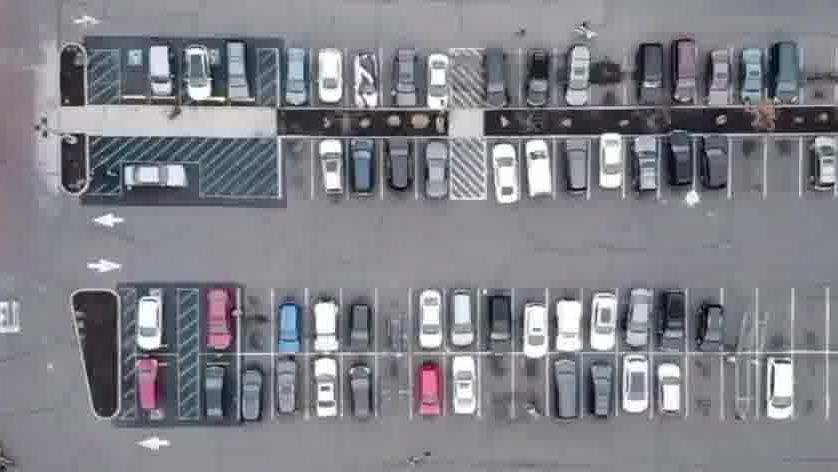car: (441, 287, 483, 349), (445, 355, 483, 422), (761, 358, 796, 428), (767, 39, 803, 104), (636, 45, 671, 110), (490, 142, 525, 207), (124, 159, 195, 191), (673, 42, 704, 111), (698, 139, 734, 198), (306, 360, 339, 424), (550, 364, 582, 430), (620, 355, 654, 417), (318, 139, 351, 202), (664, 133, 697, 196), (586, 361, 618, 424), (484, 293, 515, 358), (482, 50, 513, 114), (526, 147, 559, 207), (521, 301, 555, 359), (659, 289, 690, 352), (652, 360, 683, 423), (560, 138, 592, 199), (204, 285, 234, 350), (415, 285, 444, 350), (564, 44, 592, 111), (344, 364, 375, 424), (414, 358, 445, 418), (553, 299, 585, 357), (187, 43, 220, 99), (589, 294, 619, 355), (424, 144, 453, 206), (386, 141, 416, 200), (349, 139, 378, 200), (312, 301, 343, 358), (317, 43, 346, 103), (393, 51, 422, 111), (238, 365, 266, 427), (149, 41, 180, 97), (635, 139, 664, 198), (132, 356, 161, 415), (227, 43, 256, 101), (741, 51, 770, 109), (809, 135, 838, 193), (695, 302, 725, 358), (201, 362, 228, 424), (136, 292, 164, 351), (286, 45, 313, 106), (528, 50, 554, 113), (424, 56, 451, 116), (625, 287, 650, 351), (353, 54, 381, 111), (274, 359, 301, 418), (598, 130, 624, 191), (274, 302, 303, 355), (709, 51, 734, 112), (349, 305, 373, 358)
